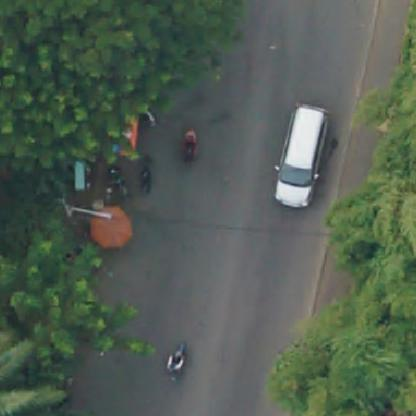Car: (270, 104, 336, 212)
Motorcycle: (101, 164, 128, 206), (166, 342, 190, 380), (178, 129, 204, 163), (135, 164, 156, 198), (138, 107, 160, 130)
